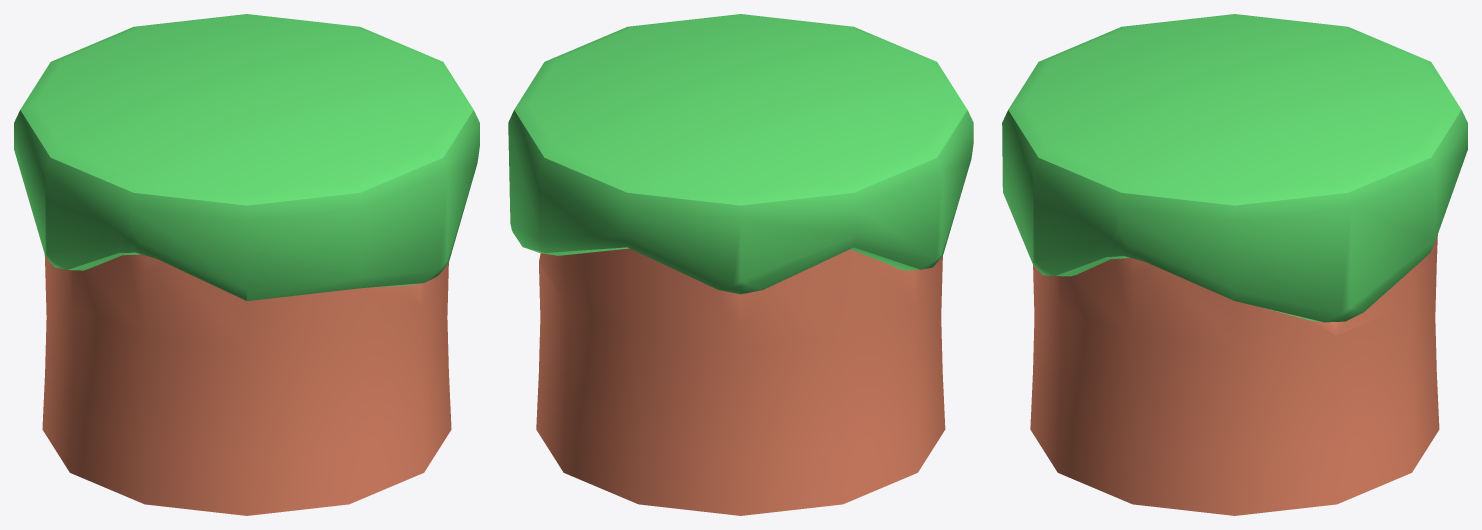
Rendered from Hill_E.fbx.
The picture shows the model from 3 angles, left to right: view 1: azimuth 30°, elevation 25°; view 2: azimuth 150°, elevation 25°; view 3: azimuth 270°, elevation 25°; orthographic projection.
Parts seen in each view (by area): view 1: Hill_E; view 2: Hill_E; view 3: Hill_E.
Boxes of the visible parts, bbox=[...] form: Hill_E: bbox=[14, 14, 479, 515]; Hill_E: bbox=[508, 14, 973, 515]; Hill_E: bbox=[1002, 14, 1467, 515].
Size of the model in its own units: 400 by 308 by 400.
